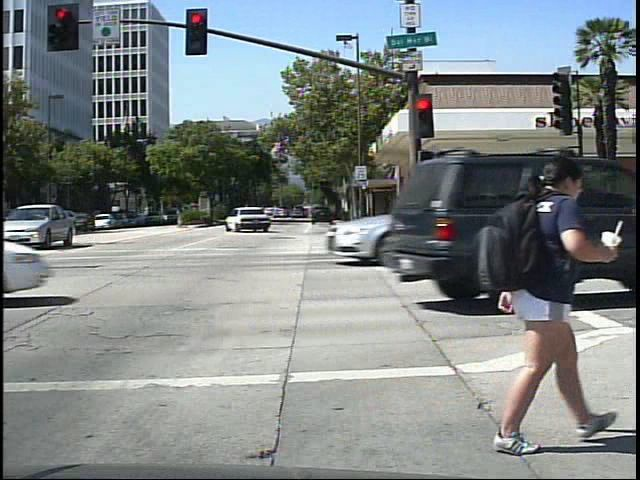person: (475, 128, 619, 459)
